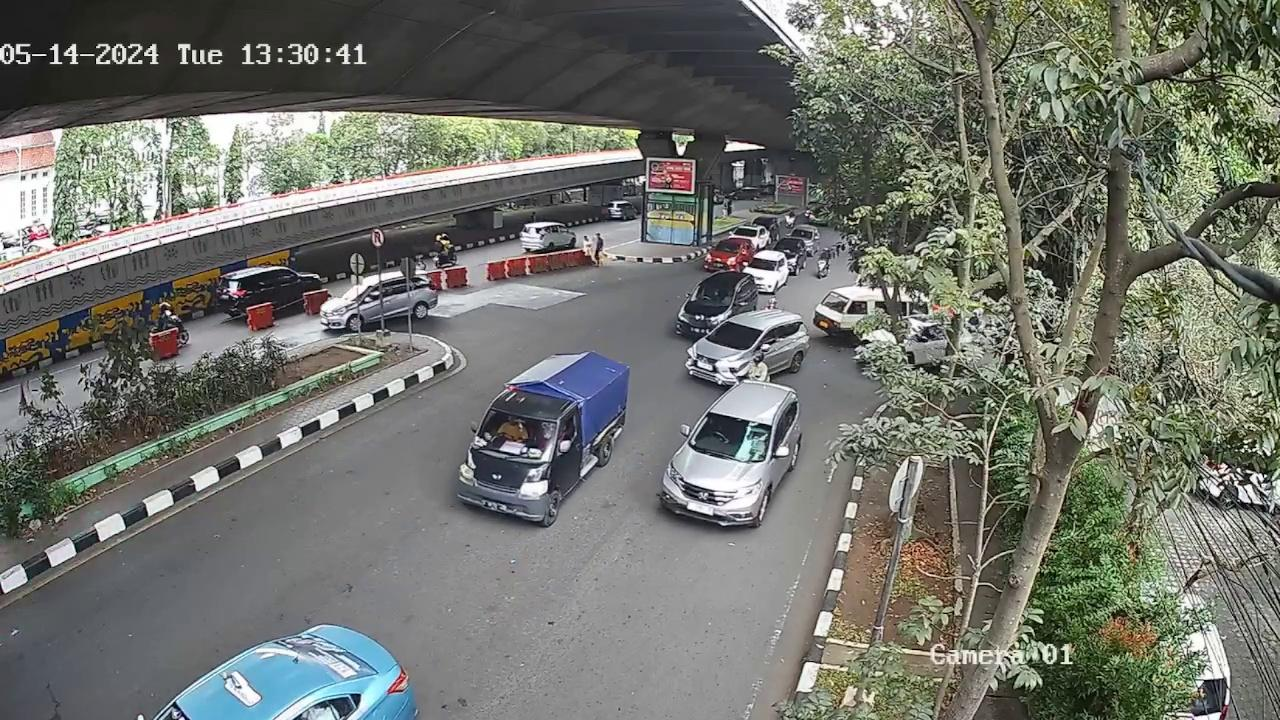tidak-pakai: (497, 417, 533, 448)
windshield: (472, 409, 560, 464), (691, 410, 774, 461), (705, 322, 766, 351), (691, 277, 738, 307)
